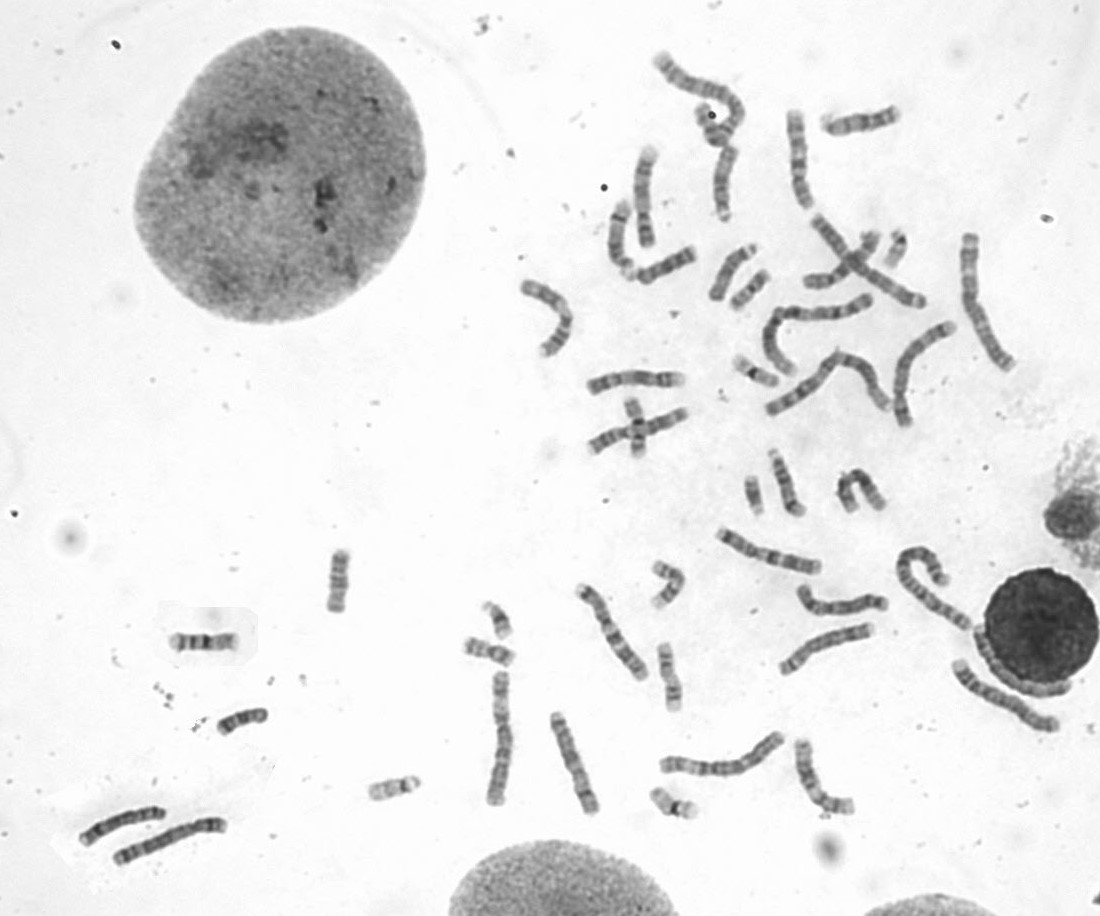chromosomes: (807, 211, 931, 314), (761, 293, 877, 388), (647, 50, 750, 149), (960, 228, 1024, 380), (765, 352, 898, 421), (952, 659, 1063, 739), (886, 318, 959, 438), (572, 580, 656, 683), (974, 619, 1073, 703), (894, 541, 975, 637), (108, 814, 236, 870), (657, 729, 789, 783), (549, 704, 603, 821), (715, 525, 827, 581), (775, 621, 879, 679), (795, 228, 880, 296), (792, 736, 859, 820), (576, 408, 693, 456), (515, 274, 576, 357), (479, 670, 514, 812), (78, 803, 170, 852), (702, 238, 765, 306), (780, 96, 814, 214), (790, 581, 890, 619), (622, 242, 702, 288), (633, 144, 667, 252), (764, 446, 810, 521), (819, 102, 905, 141), (707, 141, 742, 229), (586, 368, 692, 397), (832, 467, 889, 514), (647, 553, 690, 615), (320, 547, 357, 618), (727, 262, 778, 313), (605, 197, 636, 274), (724, 350, 783, 389), (163, 628, 242, 655), (644, 785, 703, 821), (660, 641, 688, 714), (462, 635, 519, 669), (212, 707, 272, 737), (621, 398, 650, 459), (364, 775, 424, 803), (482, 595, 515, 643), (883, 224, 913, 273), (739, 473, 767, 521)
